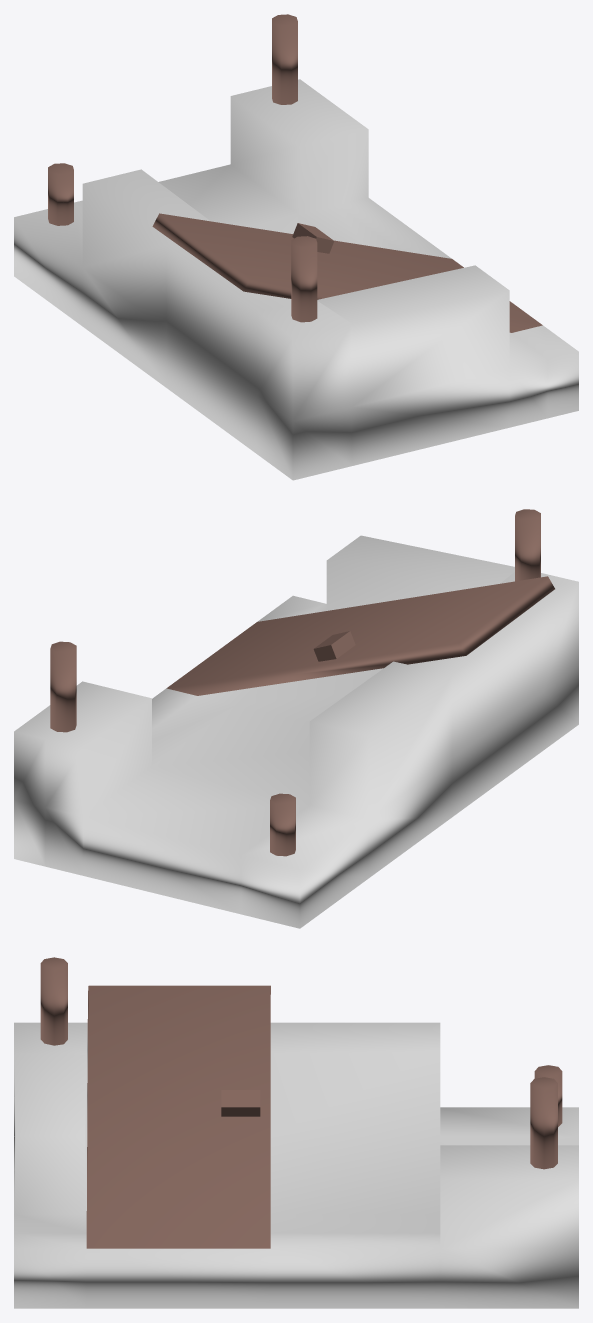
The model's file is brokenhouse.glb.
3 renders of one model, top to bottom at view 1: azimuth 30°, elevation 25°; view 2: azimuth 150°, elevation 25°; view 3: azimuth 270°, elevation 25°, orthographic.
Visible parts, largest first — view 1: Cube; view 2: Cube; view 3: Cube.
Boxes of the visible parts, bbox=[...] form: Cube: bbox=[14, 14, 578, 480]; Cube: bbox=[14, 509, 578, 928]; Cube: bbox=[14, 957, 578, 1308].
Size of the model in its own units: 7.12 by 4.91 by 11.46.
